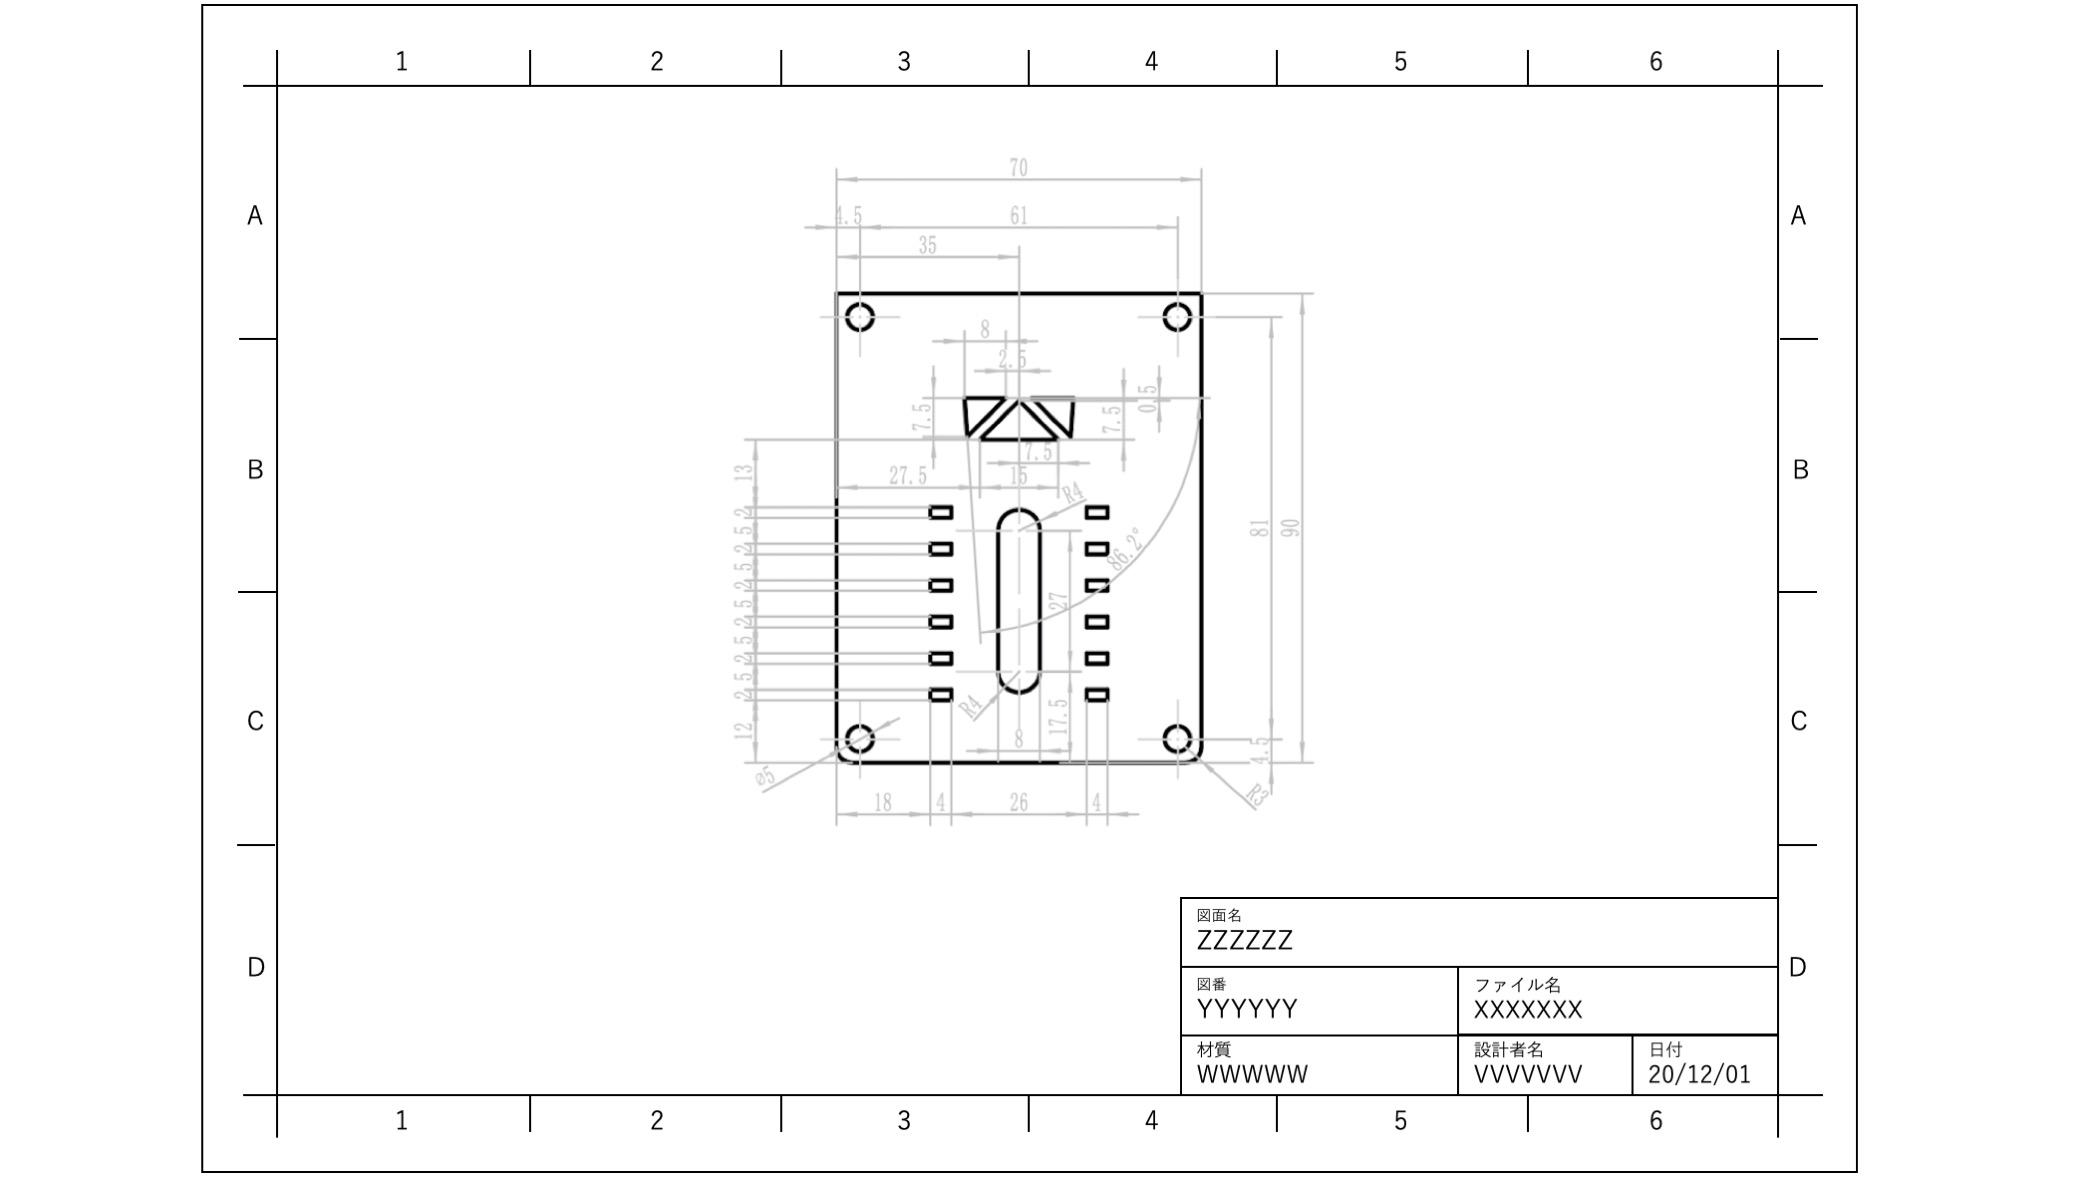circle: (1157, 296, 1194, 337), (839, 296, 875, 333), (842, 720, 878, 753), (1161, 720, 1193, 751)
rectangle: (925, 534, 958, 564), (1079, 496, 1112, 526), (1080, 534, 1113, 562), (1079, 645, 1113, 672), (925, 497, 961, 523), (1079, 607, 1113, 633), (1079, 681, 1113, 707), (1079, 572, 1115, 597), (922, 682, 956, 707), (925, 609, 955, 634), (925, 571, 956, 594), (925, 646, 956, 668)
round_rectangle: (991, 500, 1046, 696)
triangle: (972, 399, 1066, 446), (1024, 389, 1079, 438), (958, 386, 1005, 438)
